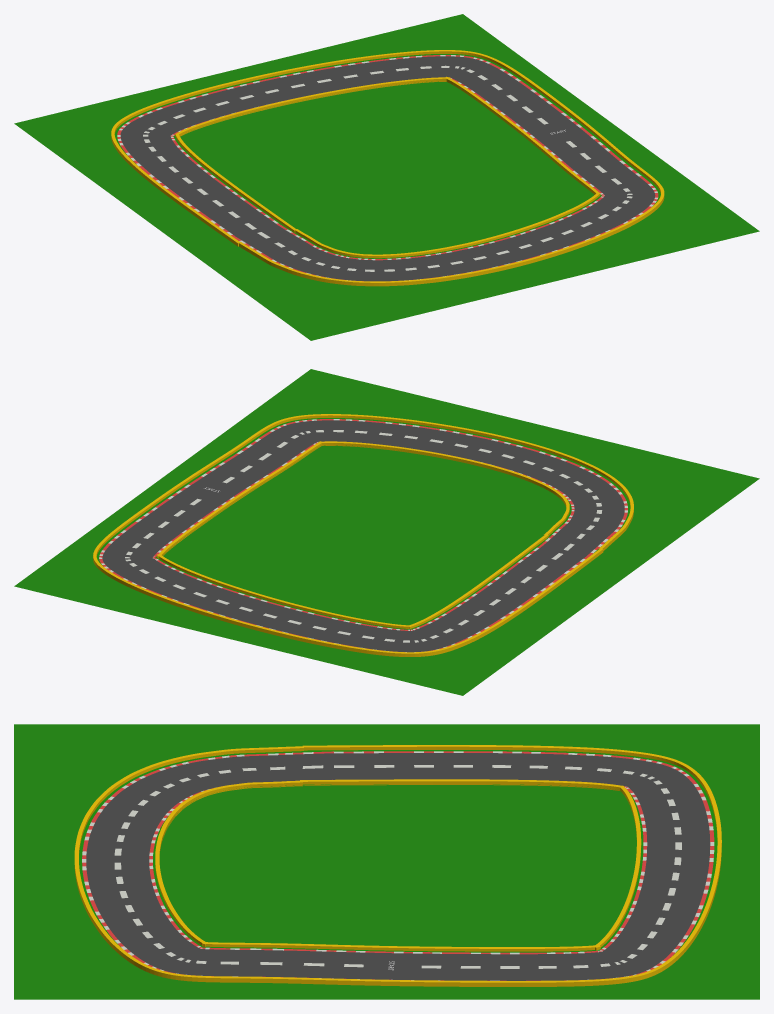
Rendered from race.gltf.
3 views of the same model, one above another, from view 1: azimuth 30°, elevation 25°; view 2: azimuth 150°, elevation 25°; view 3: azimuth 270°, elevation 25° (orthographic). The views are drawn at different scales.
Visible parts, largest first — view 1: Plane.001, Plane, Cube_Cube.002, Cube.001_Cube.003, Plane.002; view 2: Plane.001, Plane, Cube_Cube.002, Cube.001_Cube.003, Plane.002; view 3: Plane.001, Plane, Cube_Cube.002, Cube.001_Cube.003, Plane.002.
Boxes of the visible parts, x1=… form: Plane.001: x1=14, y1=14, x2=759, y2=340; Plane: x1=114, y1=54, x2=660, y2=281; Cube_Cube.002: x1=111, y1=50, x2=664, y2=286; Cube.001_Cube.003: x1=175, y1=76, x2=600, y2=258; Plane.002: x1=530, y1=123, x2=585, y2=142; Plane.001: x1=14, y1=369, x2=759, y2=695; Plane: x1=96, y1=418, x2=630, y2=652; Cube_Cube.002: x1=93, y1=414, x2=633, y2=656; Cube.001_Cube.003: x1=157, y1=441, x2=569, y2=628; Plane.002: x1=185, y1=480, x2=240, y2=500; Plane.001: x1=14, y1=724, x2=759, y2=999; Plane: x1=79, y1=750, x2=717, y2=980; Cube_Cube.002: x1=74, y1=745, x2=721, y2=986; Cube.001_Cube.003: x1=155, y1=779, x2=641, y2=951; Plane.002: x1=371, y1=953, x2=410, y2=979.
Size of the model in its own units: 137 by 1.05 by 158.
